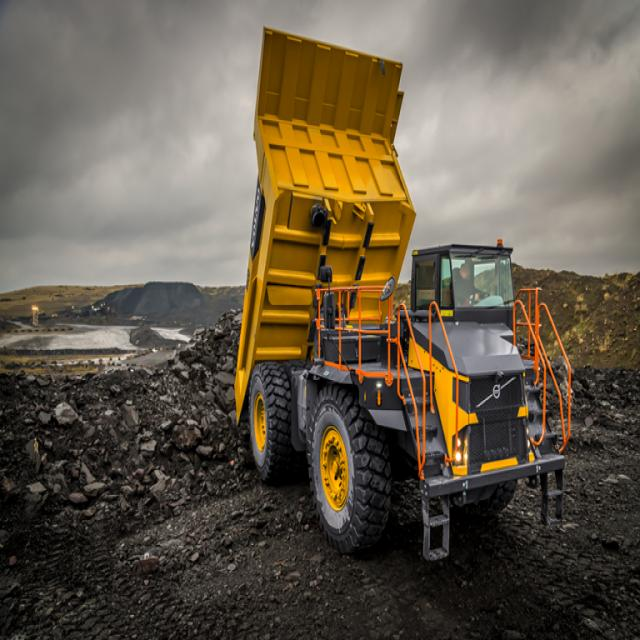dump_truck: (203, 20, 575, 570)
